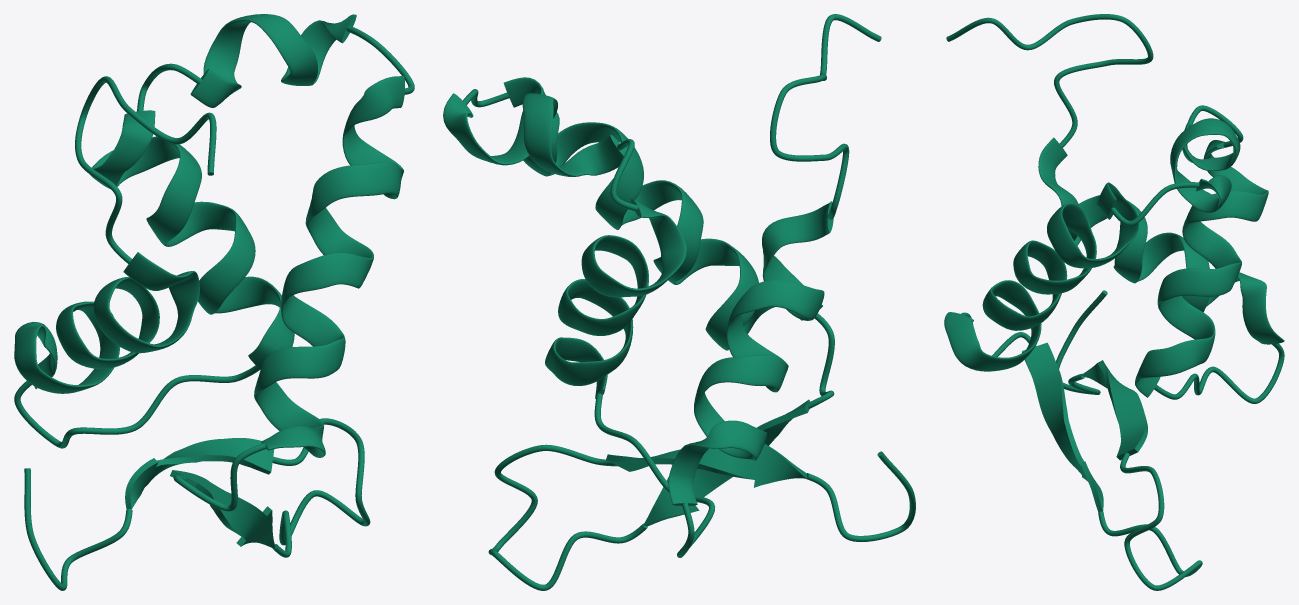
The picture shows the model from 3 angles, left to right: view 1: azimuth 30°, elevation 25°; view 2: azimuth 150°, elevation 25°; view 3: azimuth 270°, elevation 25°; orthographic projection. The views are drawn at different scales.
Bounding box in the file's own units: 30.08 × 38.22 × 24.57.
